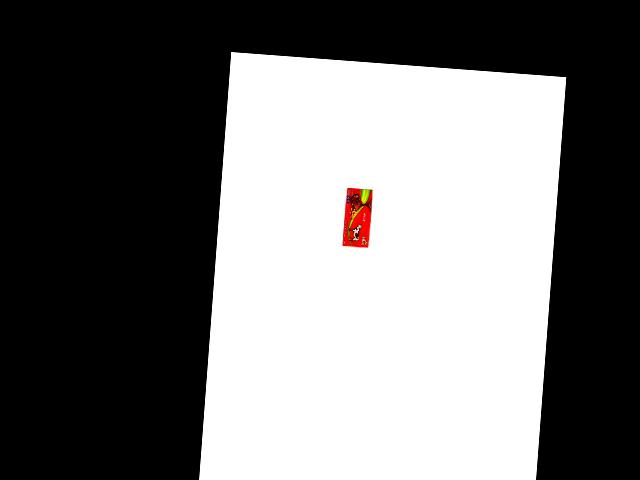chocolate: (336, 186, 374, 251)
